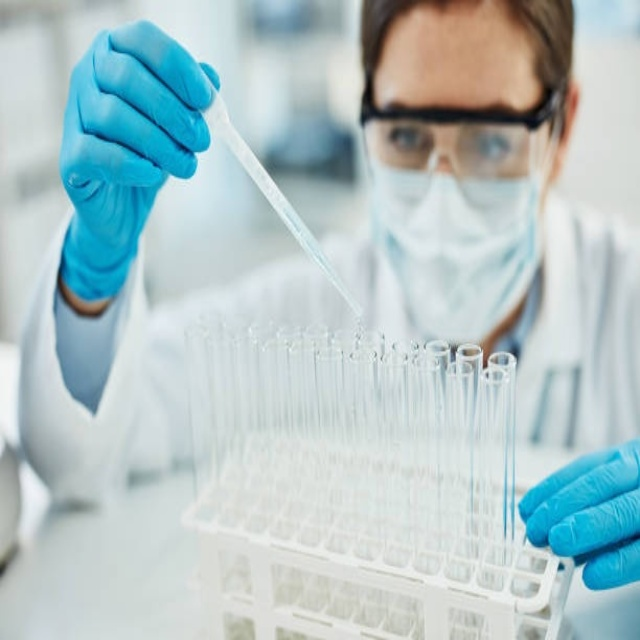Gafas: (360, 71, 560, 176)
Guantes: (55, 14, 222, 301), (518, 422, 636, 595)
Mascara: (363, 138, 553, 345)
